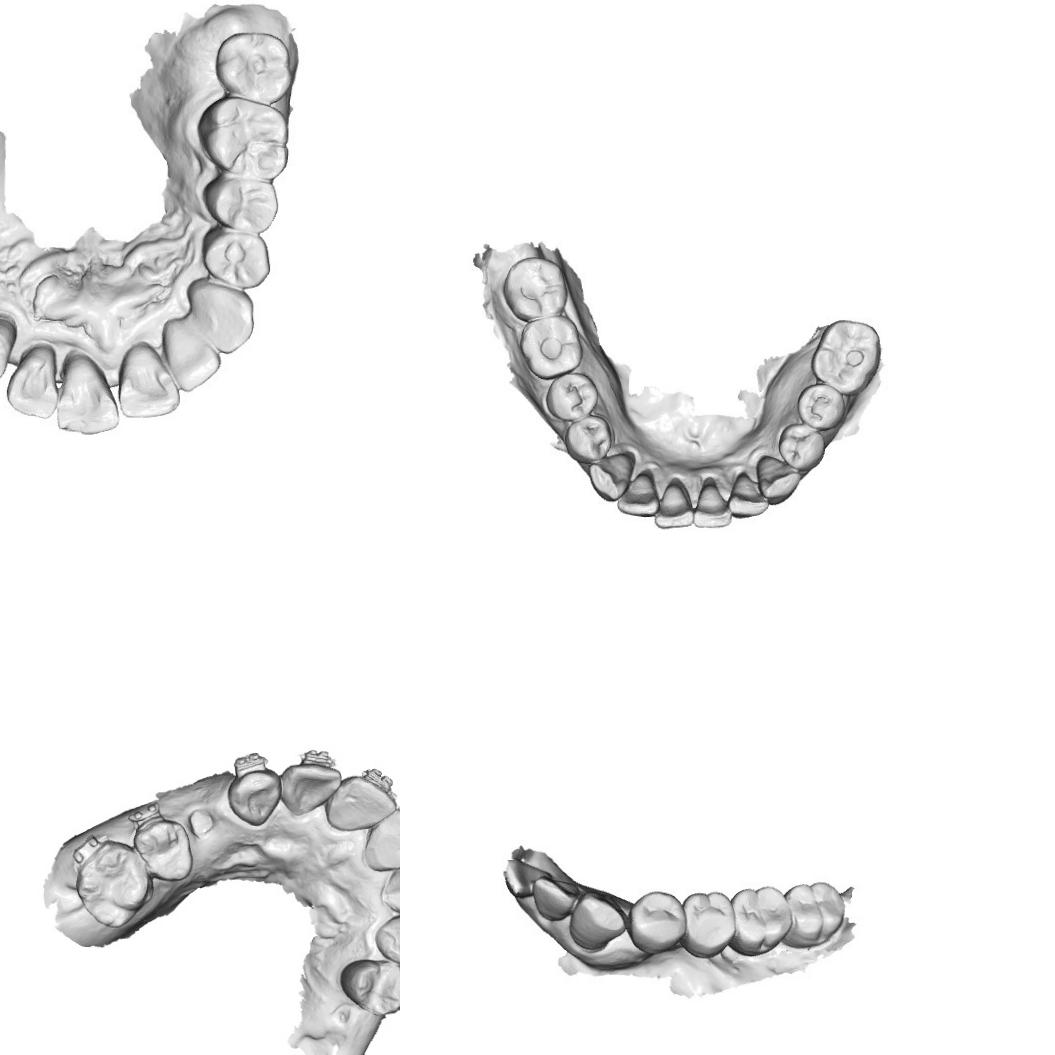canine: (183, 278, 255, 358), (566, 888, 628, 954), (226, 768, 278, 829), (754, 452, 803, 507), (584, 450, 632, 506), (375, 914, 400, 966)
incisor: (53, 354, 124, 435), (118, 340, 180, 421), (160, 318, 225, 392), (326, 774, 395, 834), (6, 344, 56, 422), (280, 761, 339, 816), (529, 872, 585, 925), (360, 806, 400, 872), (692, 474, 735, 532), (651, 473, 694, 531), (613, 466, 658, 520), (726, 469, 771, 521), (498, 854, 550, 899), (379, 858, 400, 916)
molar: (194, 96, 292, 182), (76, 842, 152, 930), (212, 26, 294, 105), (810, 318, 882, 398), (500, 250, 568, 322), (730, 883, 791, 958), (518, 316, 586, 382), (786, 878, 848, 950)
premolar: (200, 170, 281, 235), (201, 229, 274, 290), (680, 890, 736, 960), (133, 818, 192, 884), (628, 888, 686, 955), (338, 956, 400, 1017), (563, 408, 617, 464), (543, 370, 599, 422), (793, 381, 846, 435), (777, 422, 826, 472)
